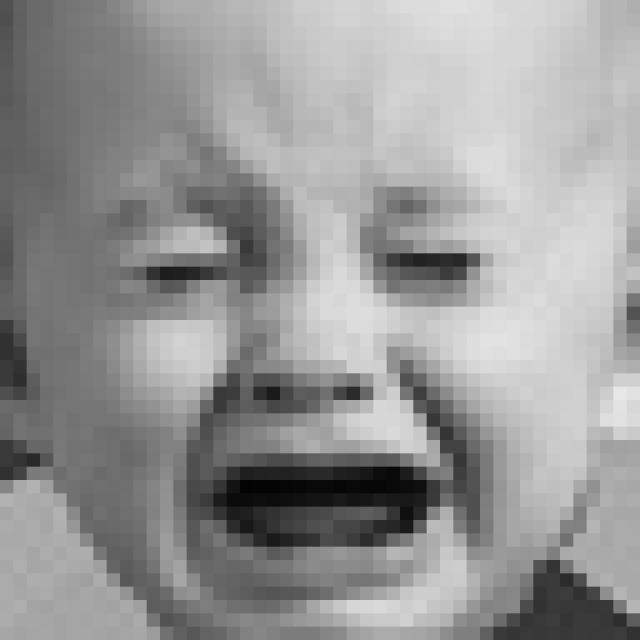sad: (97, 117, 516, 610)
